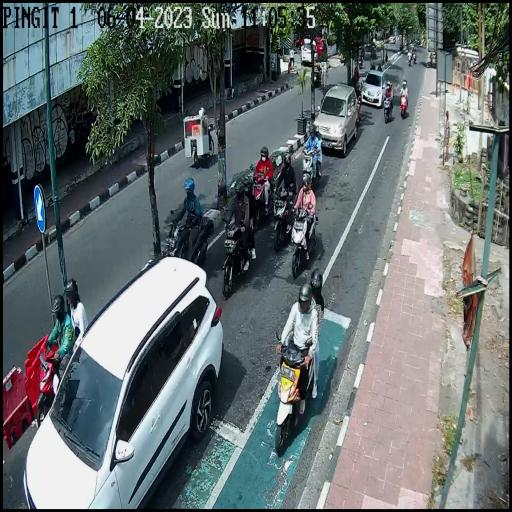mobil: (22, 258, 225, 506), (315, 86, 358, 154), (362, 68, 386, 108)
motor: (272, 327, 318, 455), (164, 209, 214, 272), (221, 219, 257, 298), (290, 201, 319, 275), (37, 343, 61, 423), (272, 180, 297, 252), (250, 165, 277, 227), (301, 148, 319, 187), (382, 94, 394, 125), (399, 91, 409, 120)
